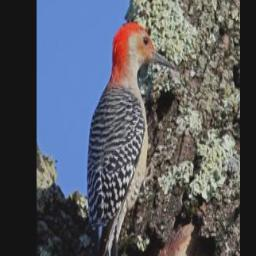Woodpecker: (85, 19, 176, 256)
